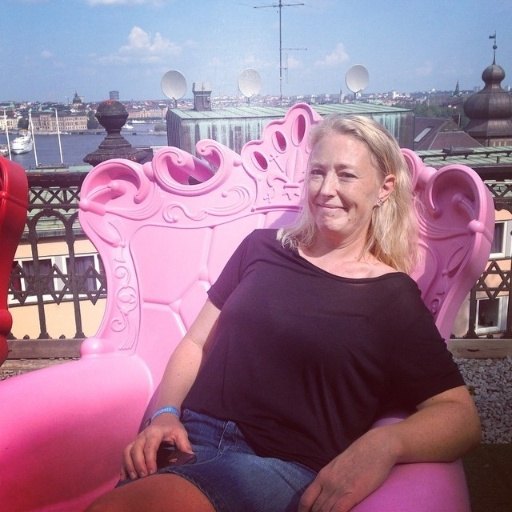hand: (296, 428, 397, 511), (129, 408, 189, 479)
